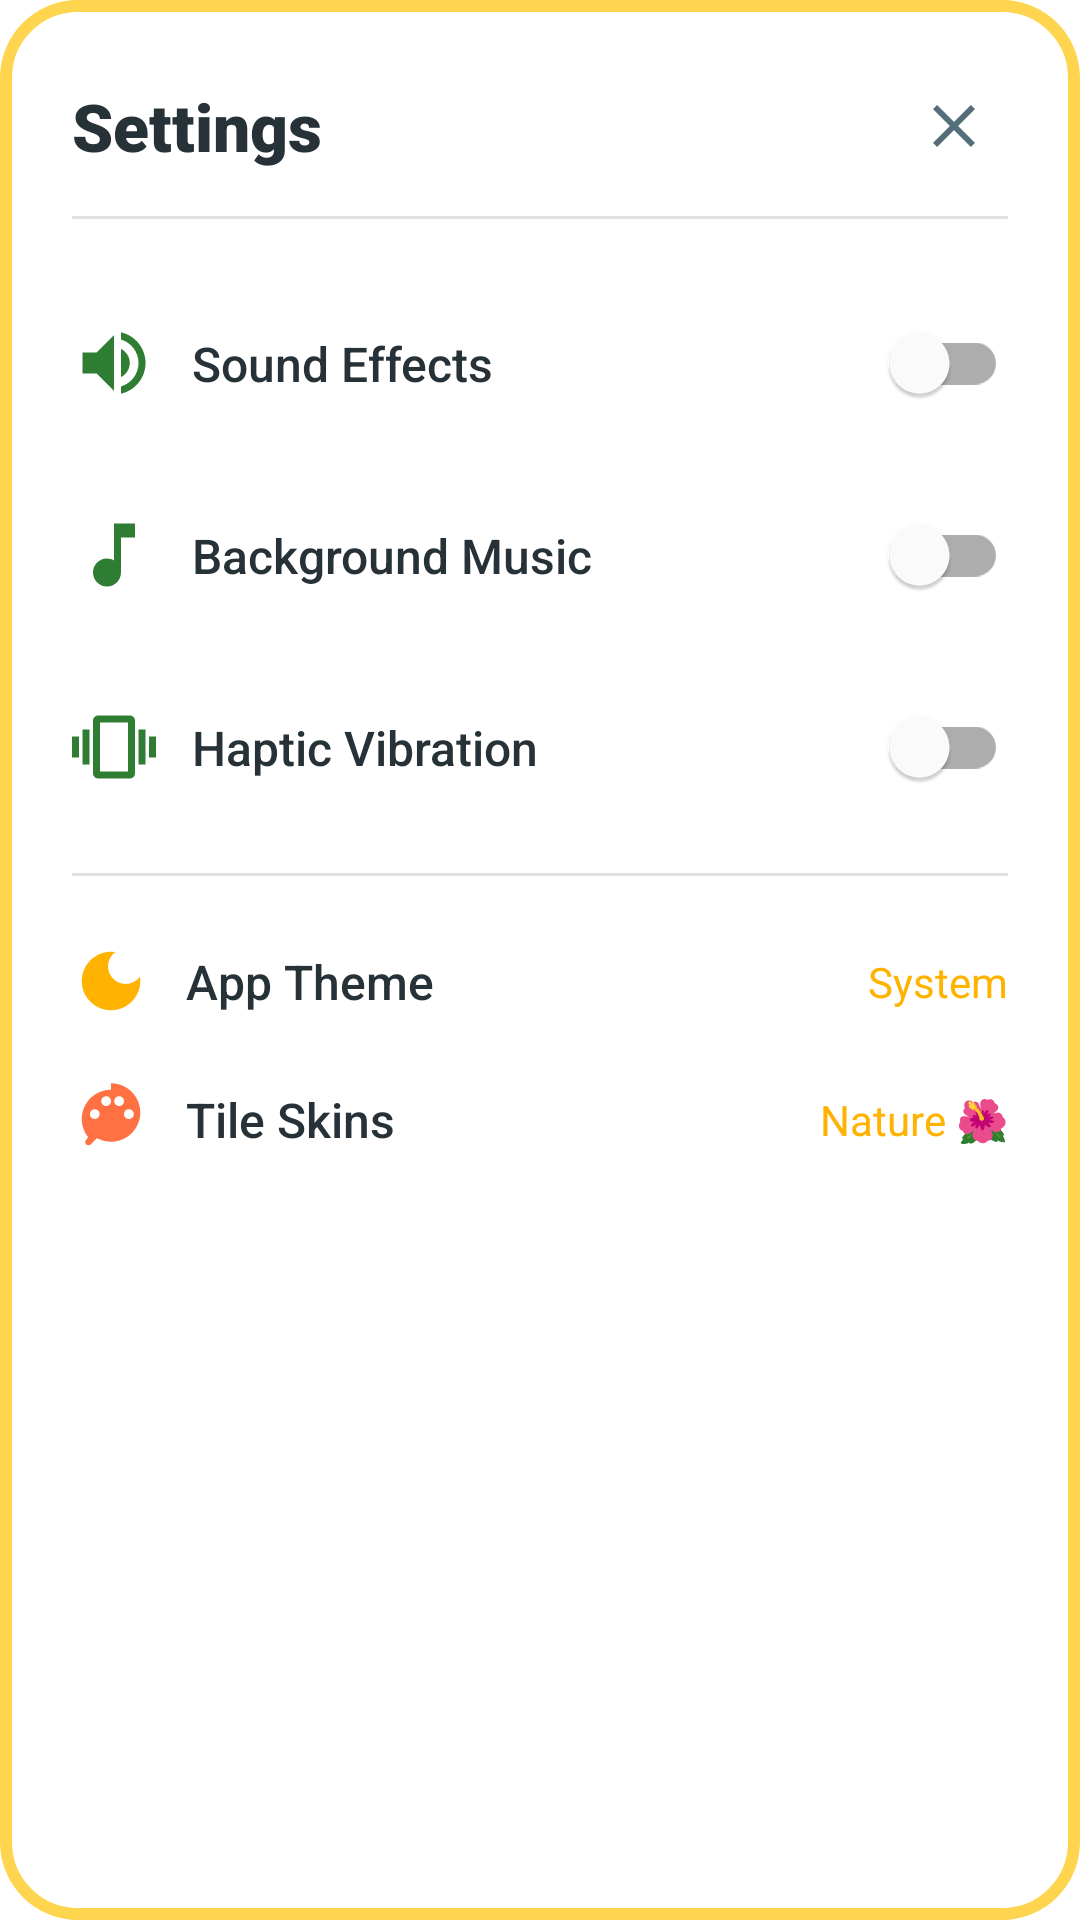

Point at icon controls on the screen. Image size 1080×1920, points as (x,y).
close: (954,126)
music note: (114,555)
palette: (111,1114)
theme mode: (111,981)
volume up: (114,363)
